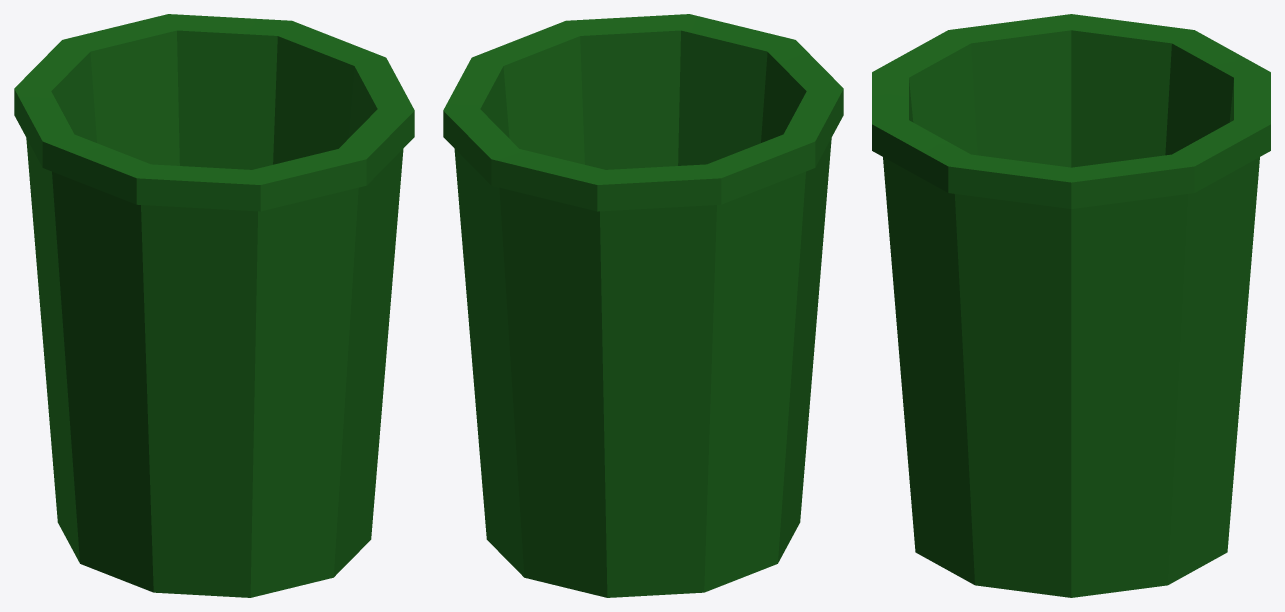
The model's file is dustbin.fbx.
The picture shows the model from 3 angles, left to right: view 1: azimuth 30°, elevation 25°; view 2: azimuth 150°, elevation 25°; view 3: azimuth 270°, elevation 25°; orthographic projection.
Visible parts, largest first — view 1: dustbin; view 2: dustbin; view 3: dustbin.
Part boxes in pixels (x1,y1,x2,y2): dustbin: (14,14,414,597); dustbin: (443,14,843,597); dustbin: (872,14,1270,597).
Size of the model in its own units: 100 by 120 by 100.
